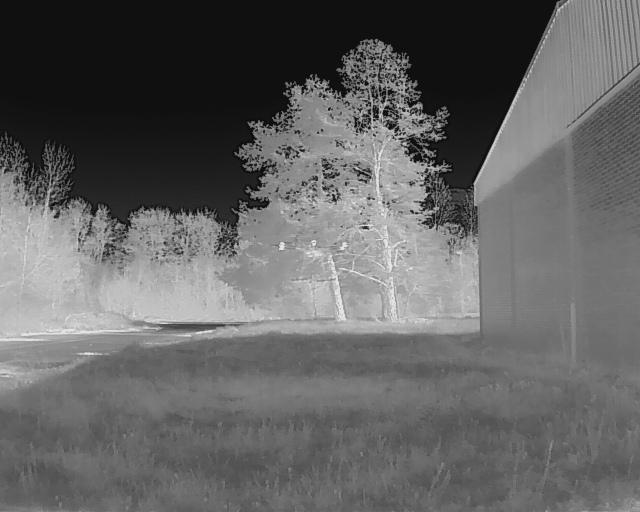drone: (267, 228, 361, 286)
